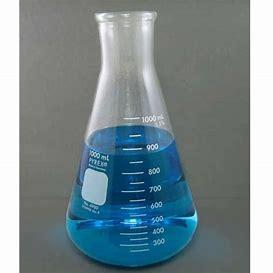Titrarion: (44, 12, 205, 266)
